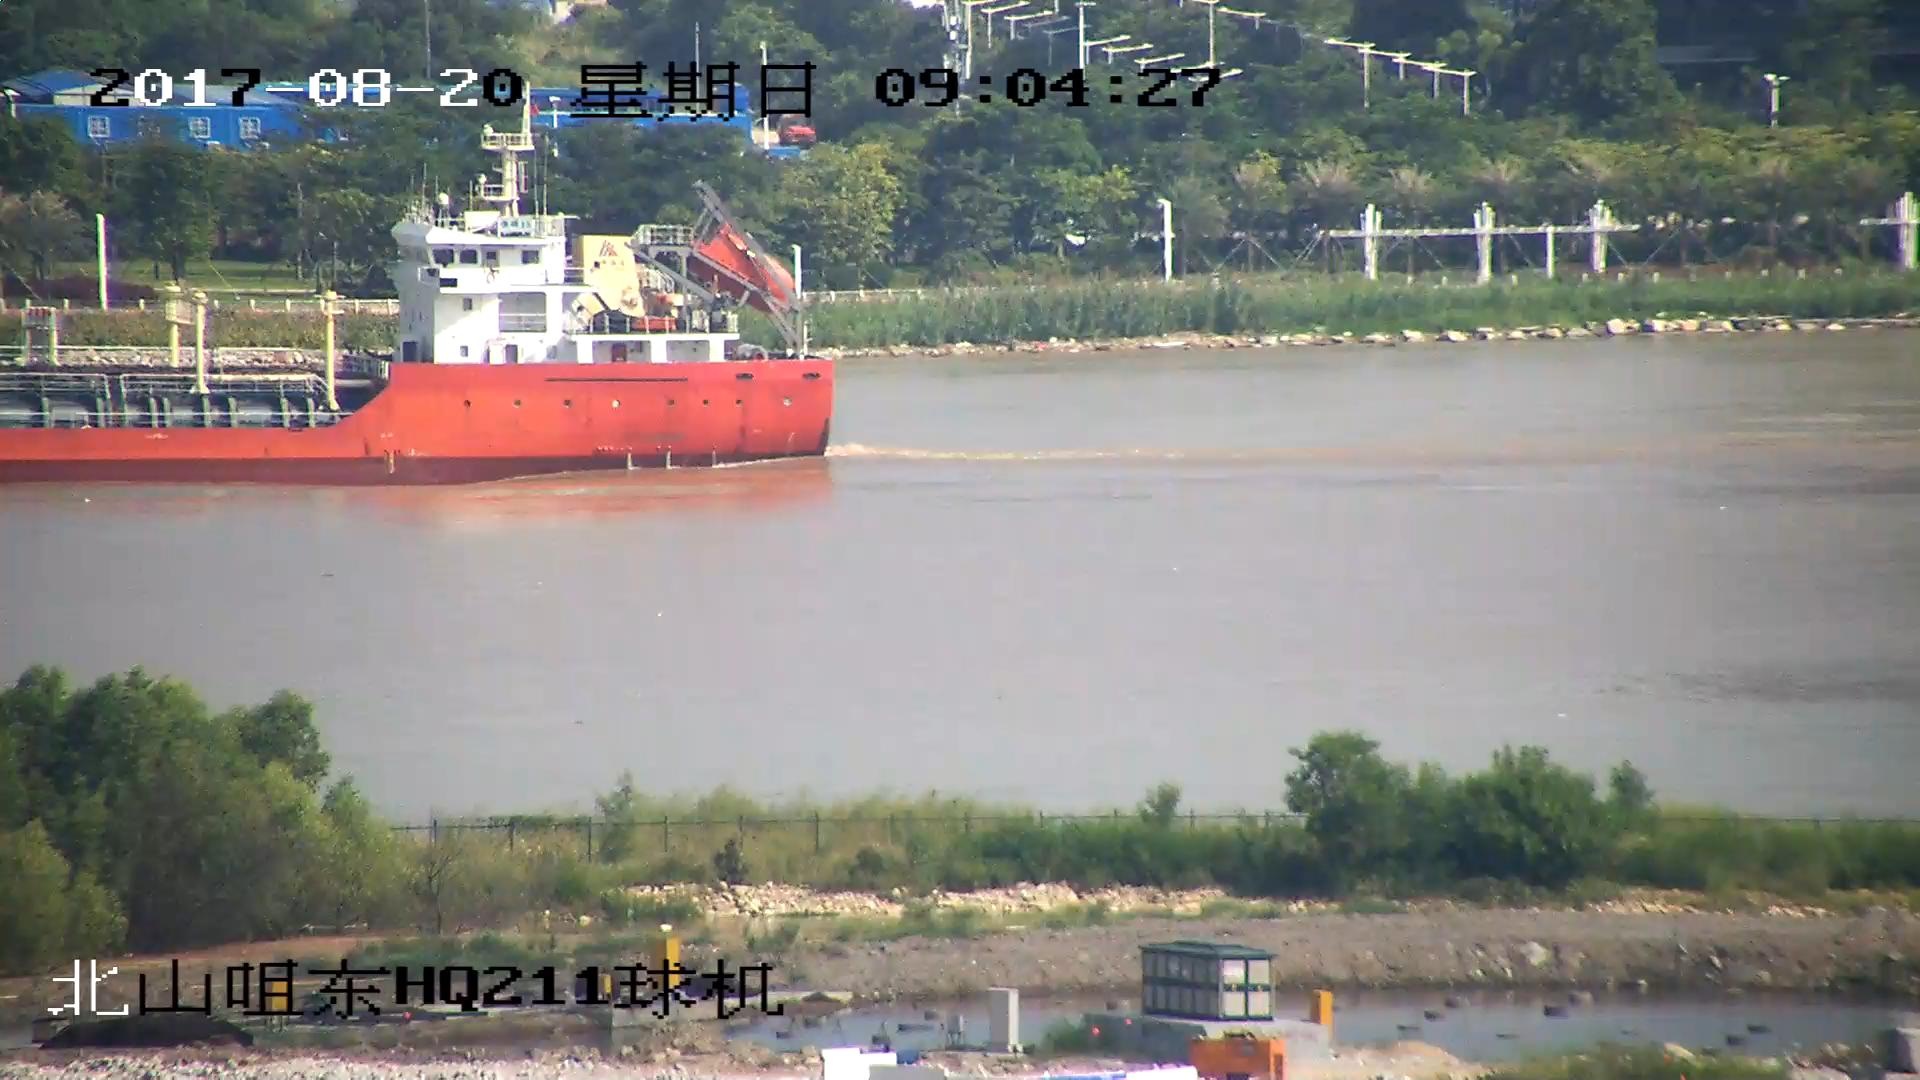general cargo ship: (1, 130, 833, 482)
